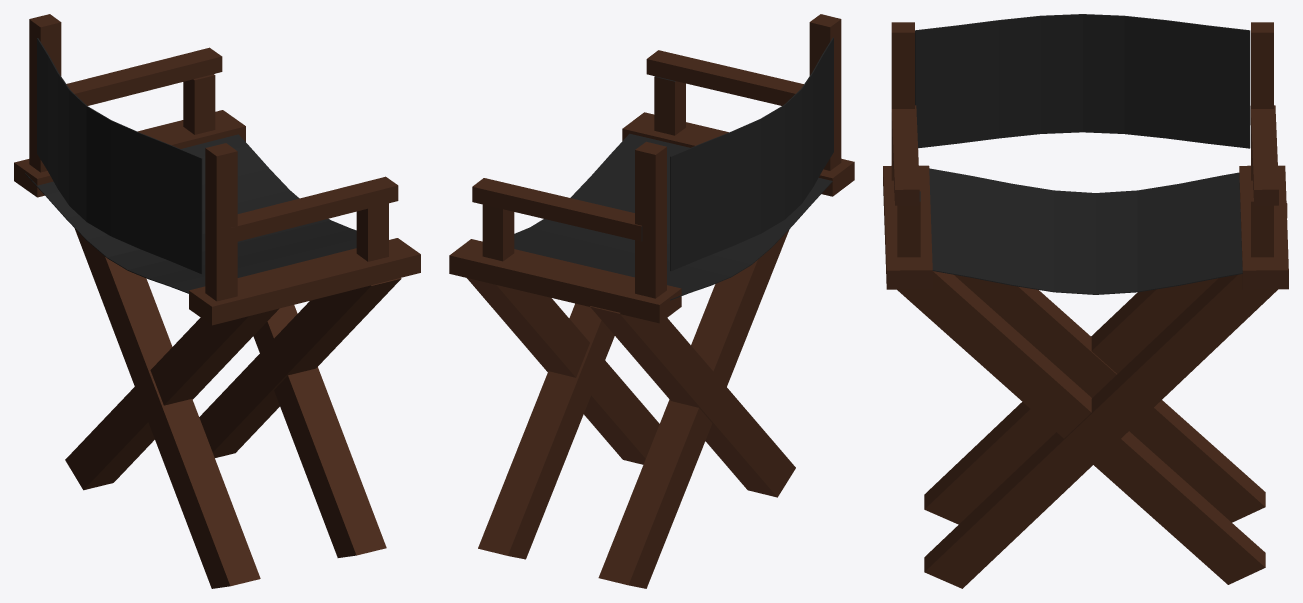
File: DirectorChairWIP.fbx
3 views of the same model, side by side, from view 1: azimuth 30°, elevation 25°; view 2: azimuth 150°, elevation 25°; view 3: azimuth 270°, elevation 25° (orthographic). The views are drawn at different scales.
Visible parts, largest first — view 1: Plane; view 2: Plane; view 3: Plane.
Part boxes in pixels (<box>): Plane: <box>14,14,420,588</box>; Plane: <box>449,14,854,588</box>; Plane: <box>883,14,1288,588</box>.
Bounding box in the file's own units: 91.88 × 172 × 133.
